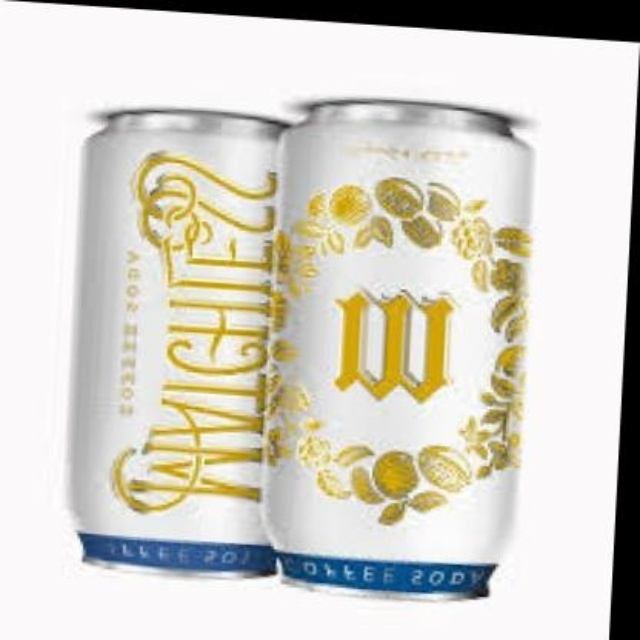trash: (265, 100, 531, 594), (72, 109, 283, 572)
